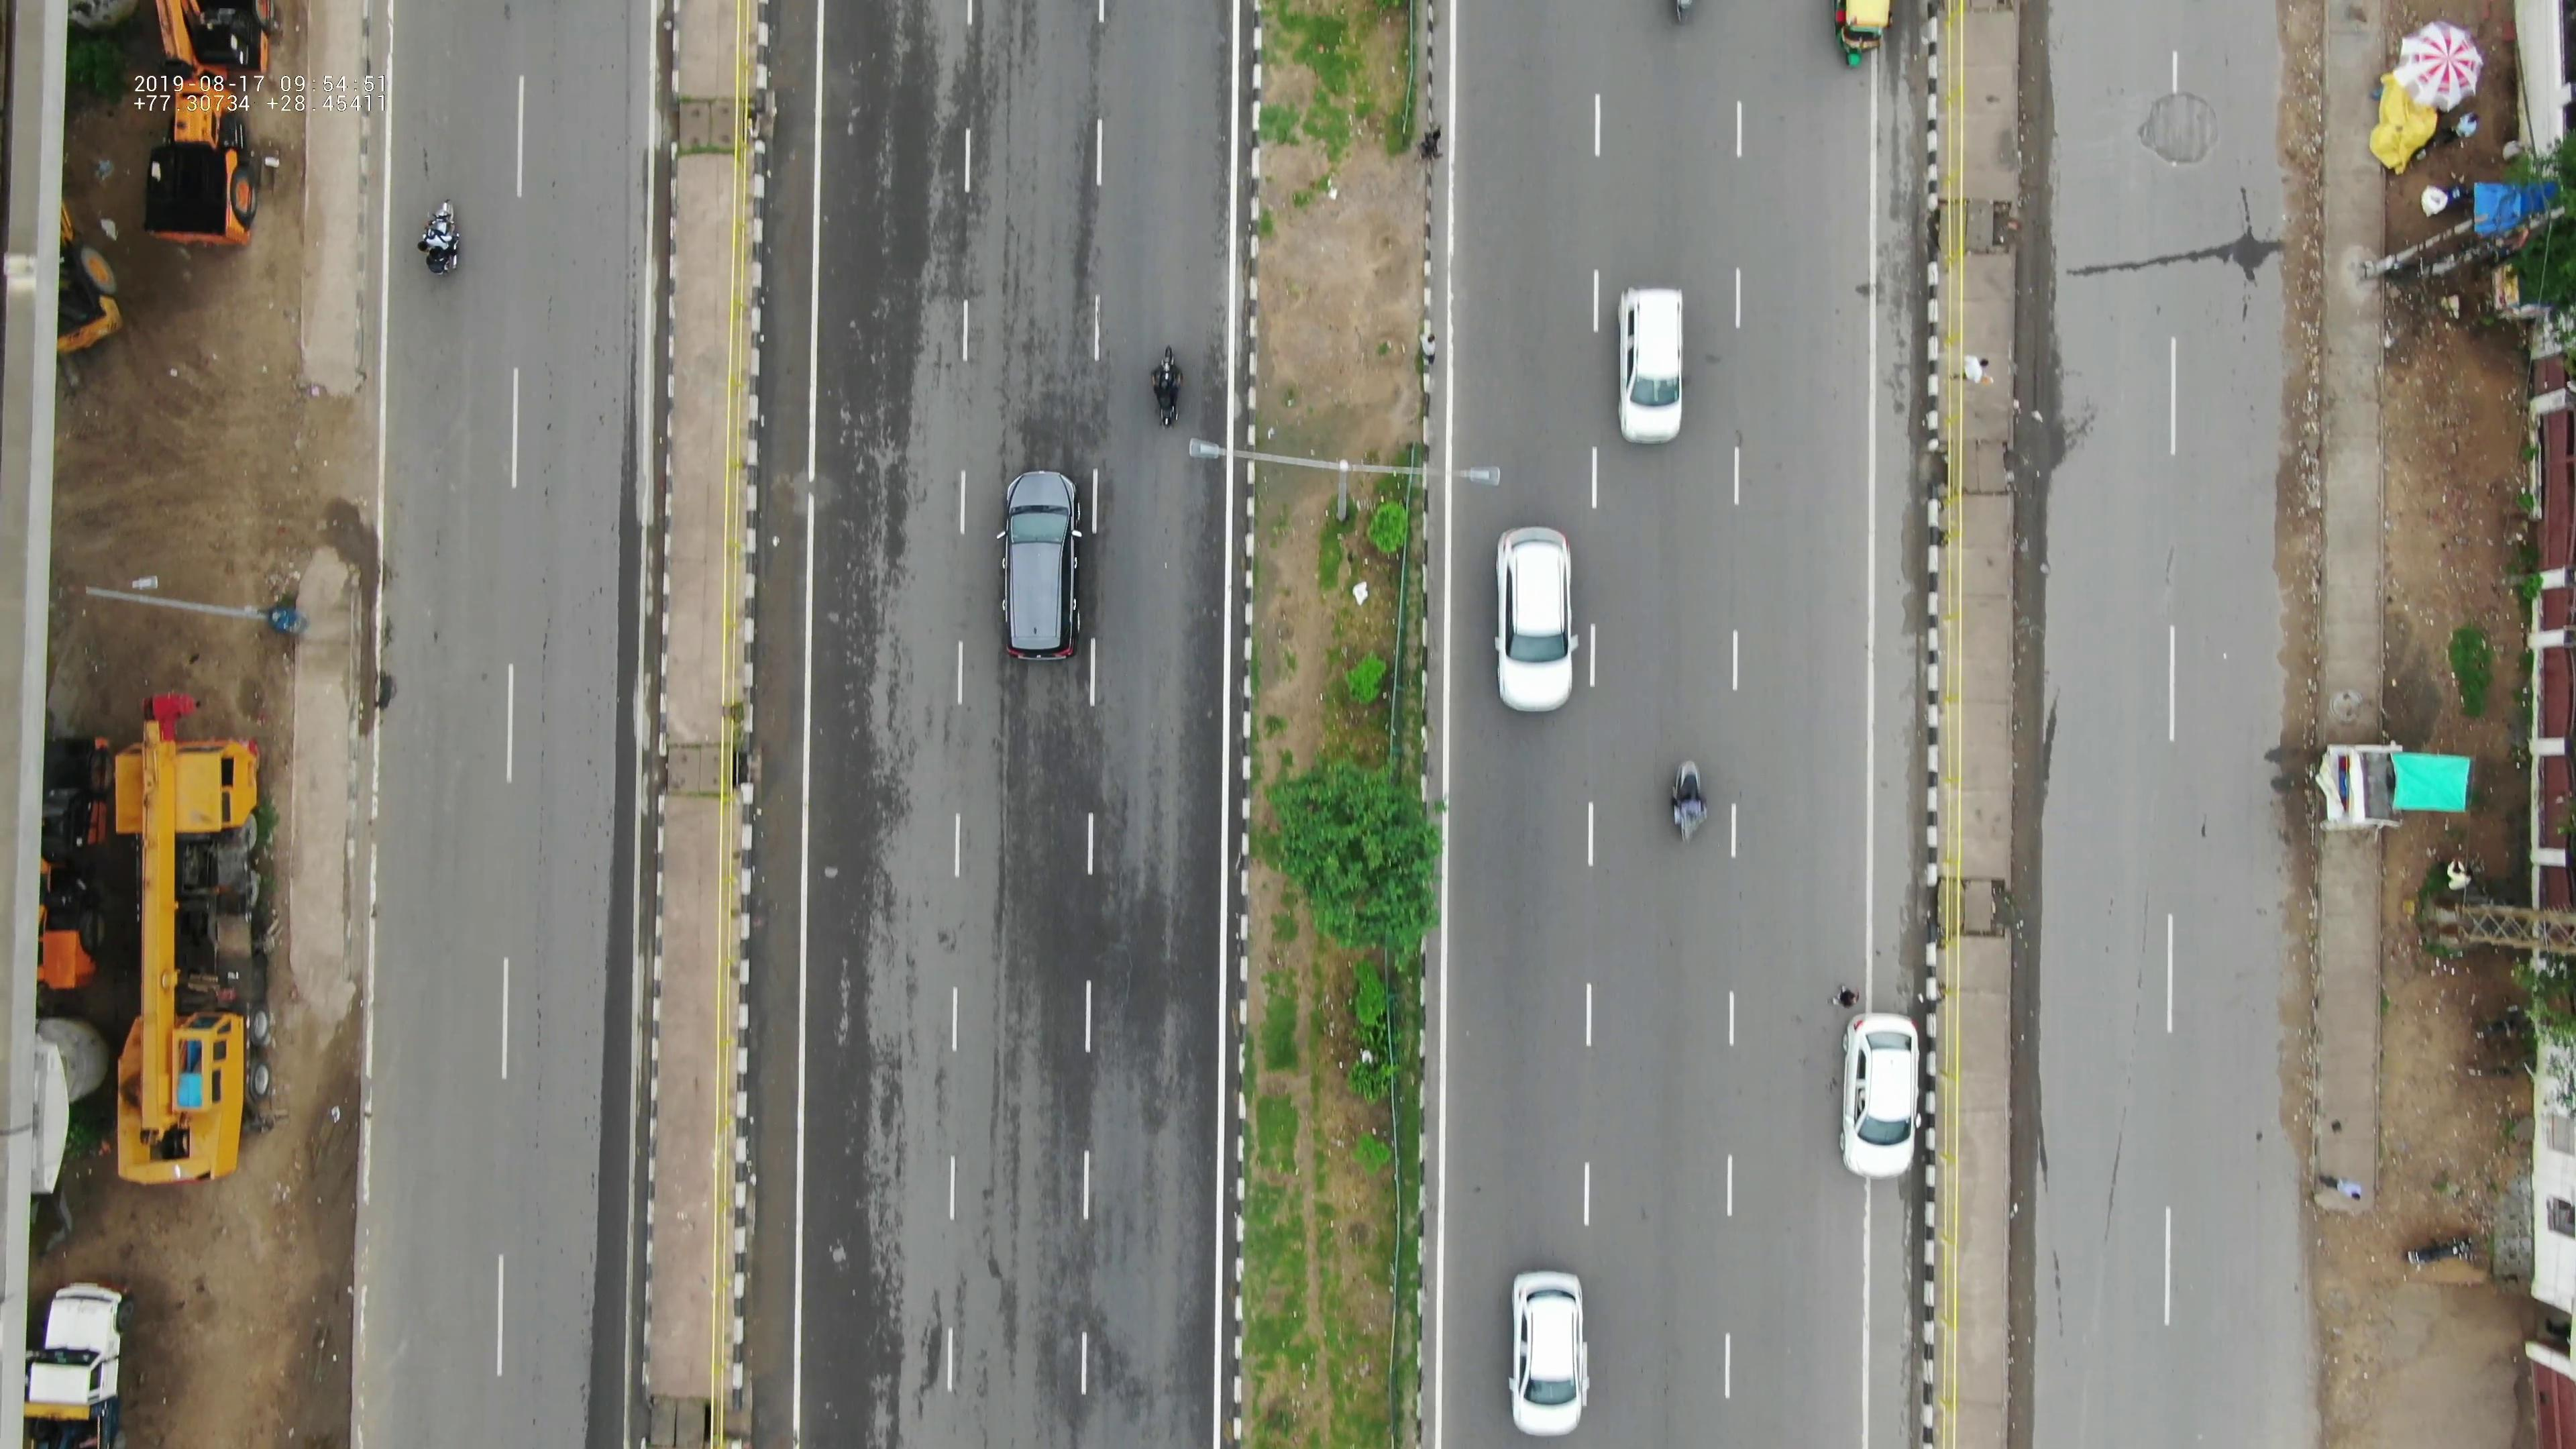Muddy_road: (2263, 11, 2328, 396), (2252, 425, 2327, 713)
